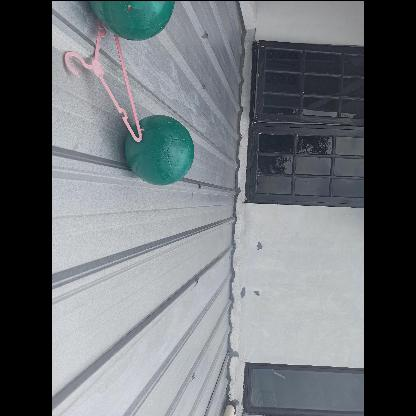green_ball: (125, 116, 197, 188)
